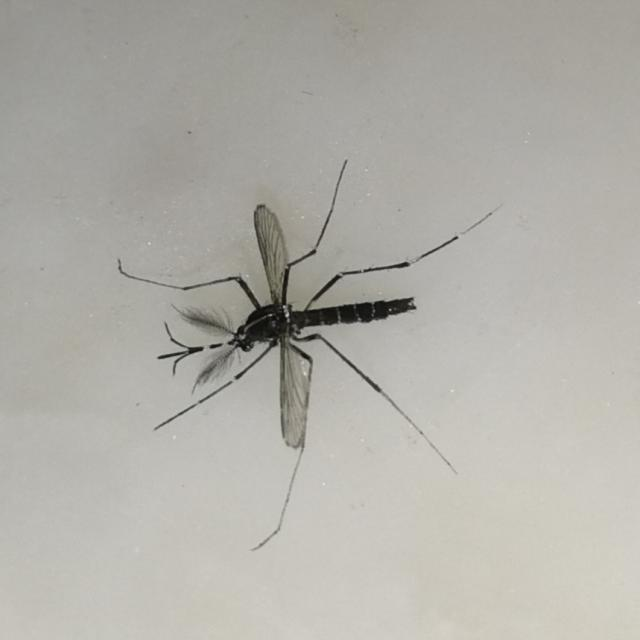albopictus: (119, 136, 498, 542)
